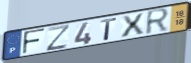4: (73, 21, 93, 46)
F: (21, 27, 47, 56)
R: (145, 7, 172, 37)
T: (100, 17, 118, 41)
X: (120, 12, 146, 39)
Z: (45, 23, 72, 52)
